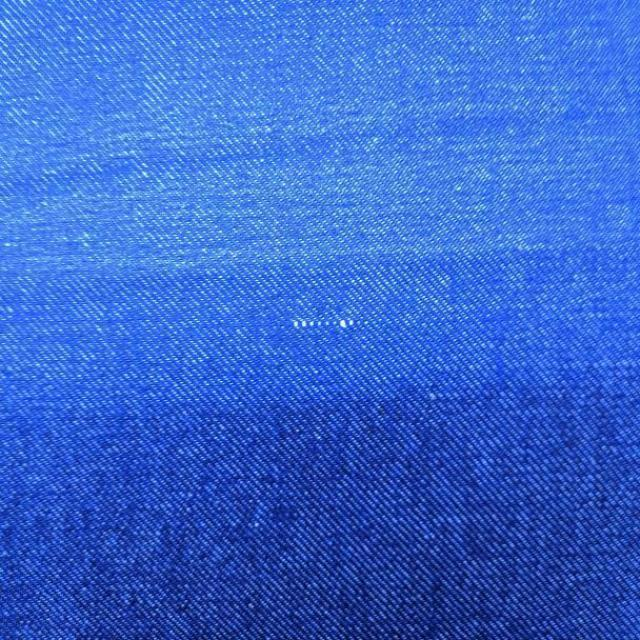Knot: (291, 318, 357, 331)
